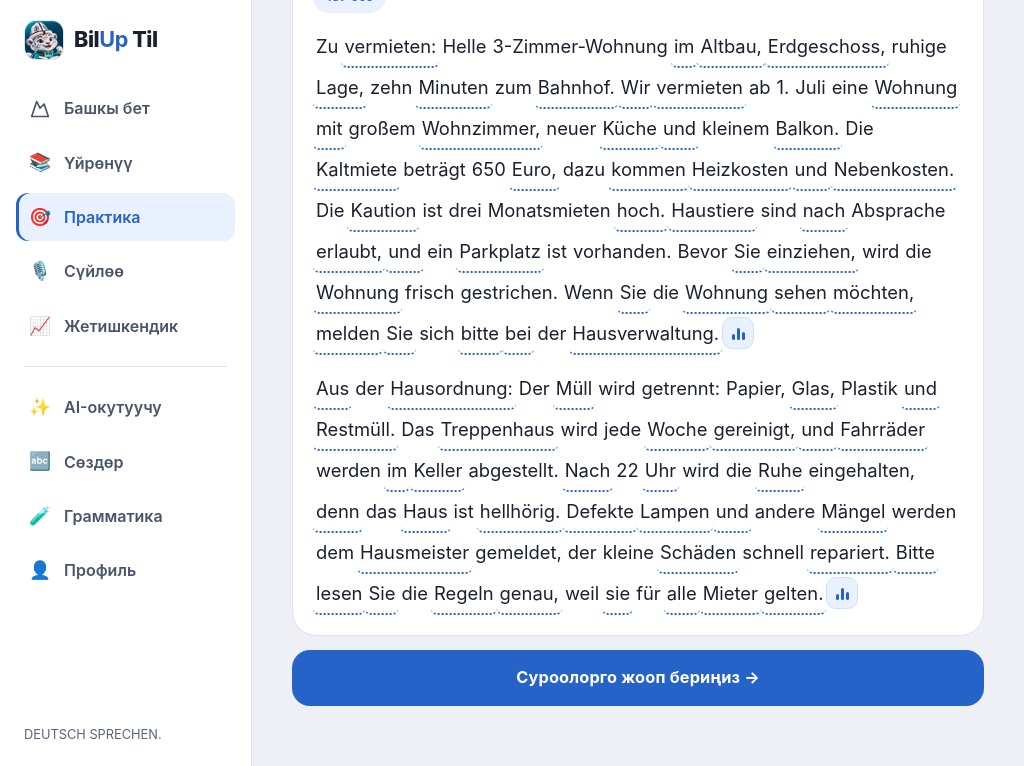
Test: reading and listening flows › ky: the reading shows its text and questions; answering one gives feedback and no error is logged
This screenshot has width=1024, height=766.
Later steps or results of the test are not shown.
(page scrolled)
Click the button "Суроолорго жооп бериңиз →": (638, 678) [292,650,984,706]
(page scrolled)
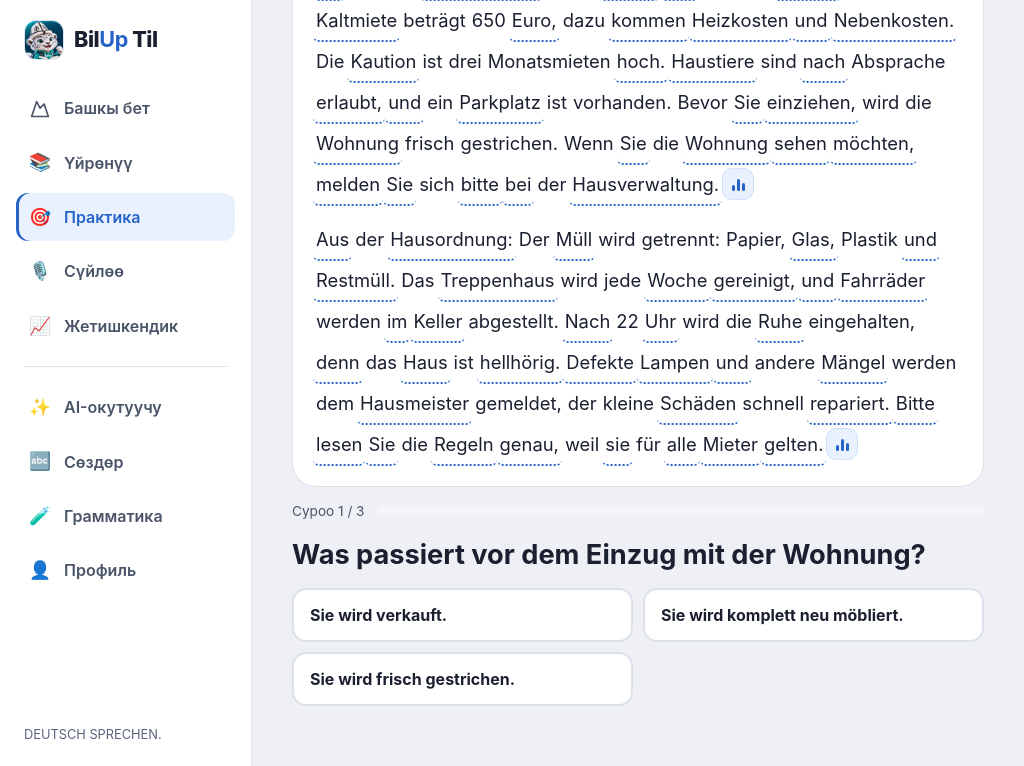
Expected: the text "Was passiert vor dem Einzug mit der Wohnung?" is shown, [292,537,926,574]
Expected: the button "Sie wird verkauft." is shown, [292,588,633,642]
